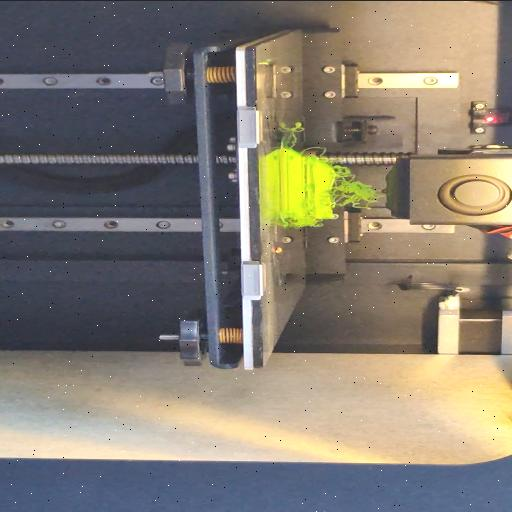spaghetti: (328, 162, 384, 210), (282, 120, 308, 146), (298, 145, 328, 157), (281, 218, 293, 228)
